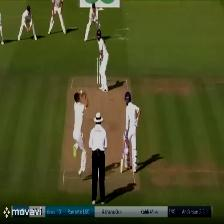batsman: (95, 28, 112, 92)
